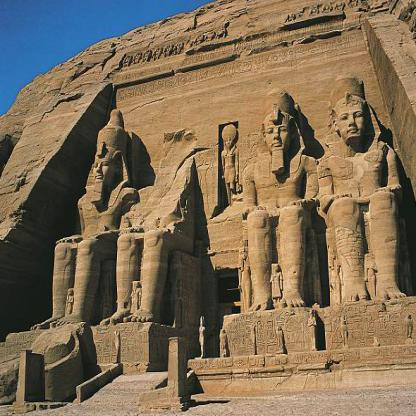Sedimentary_Sandstone: (320, 21, 416, 393), (114, 125, 216, 386), (240, 80, 316, 325), (51, 110, 122, 348), (217, 122, 241, 207)
